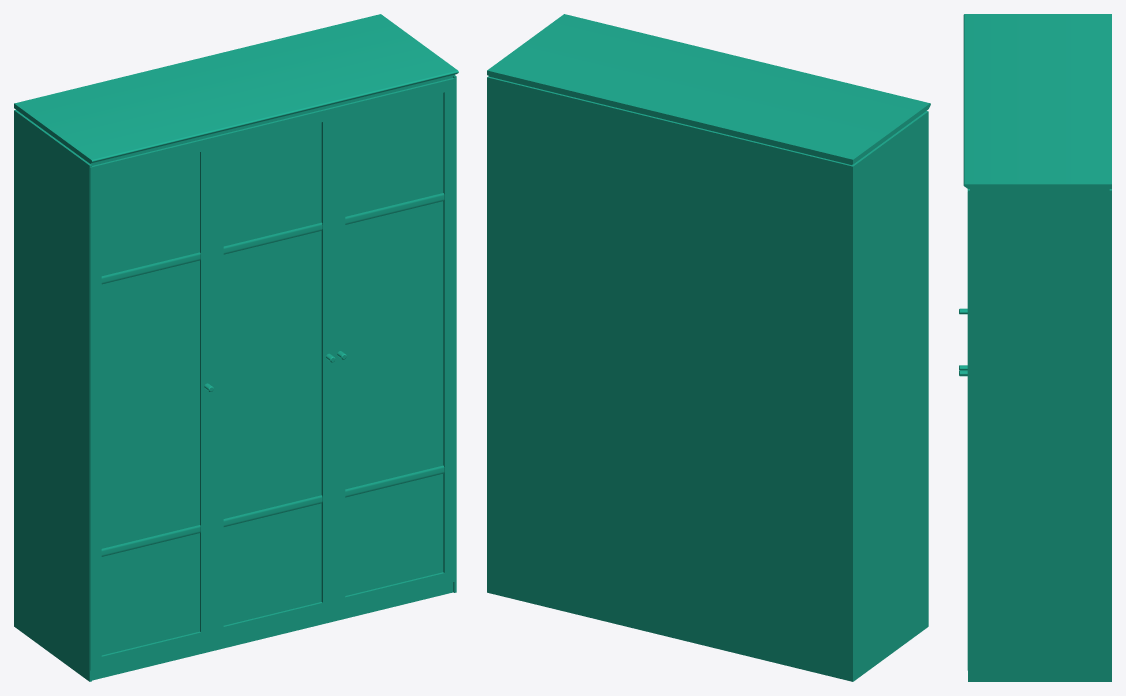
File: wardrobe.obj
3 views of the same model, side by side, from view 1: azimuth 30°, elevation 25°; view 2: azimuth 150°, elevation 25°; view 3: azimuth 270°, elevation 25° (orthographic). The views are drawn at different scales.
Parts seen in each view (by area): view 1: Rectangle13; view 2: Rectangle13; view 3: Rectangle13.
Boxes of the visible parts, <box> form: Rectangle13: <box>14,14,458,681</box>; Rectangle13: <box>487,14,930,681</box>; Rectangle13: <box>959,14,1111,681</box>.
Size of the model in its own units: 66.14 by 90.16 by 25.11.
